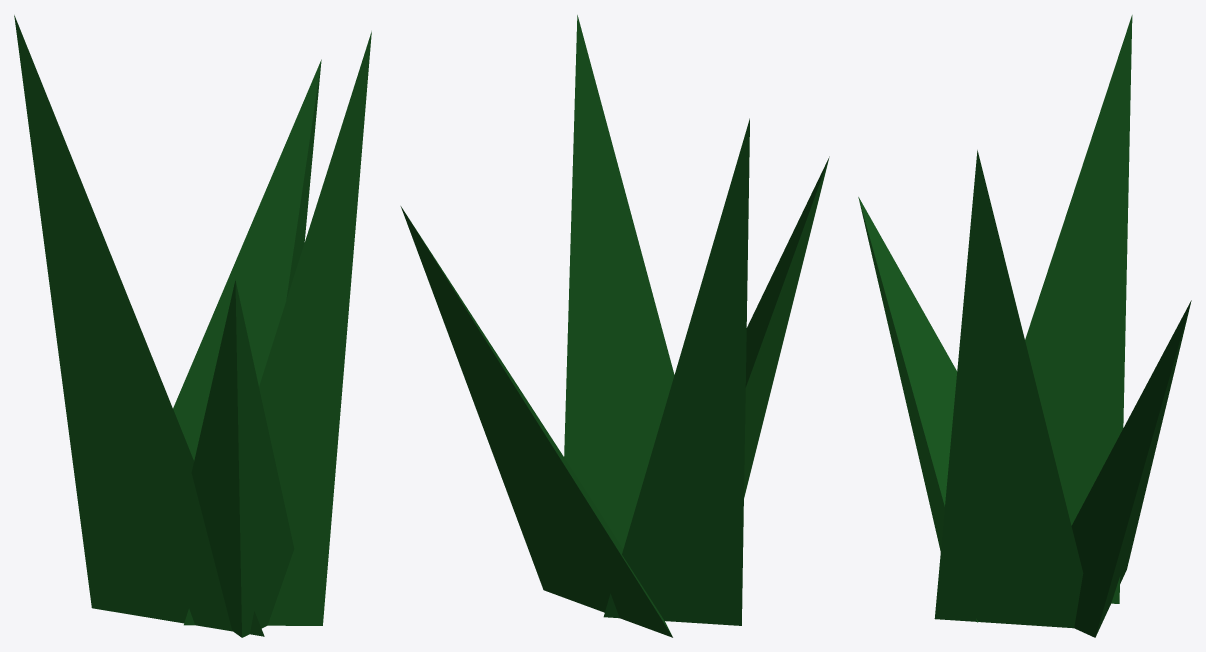
File: grass3.fbx
3 views of the same model, side by side, from view 1: azimuth 30°, elevation 25°; view 2: azimuth 150°, elevation 25°; view 3: azimuth 270°, elevation 25° (orthographic). The views are drawn at different scales.
Visible parts, largest first — view 1: Cone.005, Cone.002, Cone.007, Cone.004; view 2: Cone.005, Cone.002, Cone.004, Cone.007; view 3: Cone.002, Cone.005, Cone.004, Cone.007.
Part boxes in pixels (x1,y1,x2,y2): Cone.005: (14,15,264,636); Cone.002: (184,31,371,625); Cone.007: (191,280,294,637); Cone.004: (173,59,321,460); Cone.005: (603,118,749,625); Cone.002: (564,15,674,548); Cone.004: (400,206,672,637); Cone.007: (744,156,829,497); Cone.002: (934,150,1083,628); Cone.005: (1025,15,1132,603); Cone.004: (1071,300,1191,637); Cone.007: (858,197,978,622).
Size of the model in its own units: 100 by 163 by 94.81.
